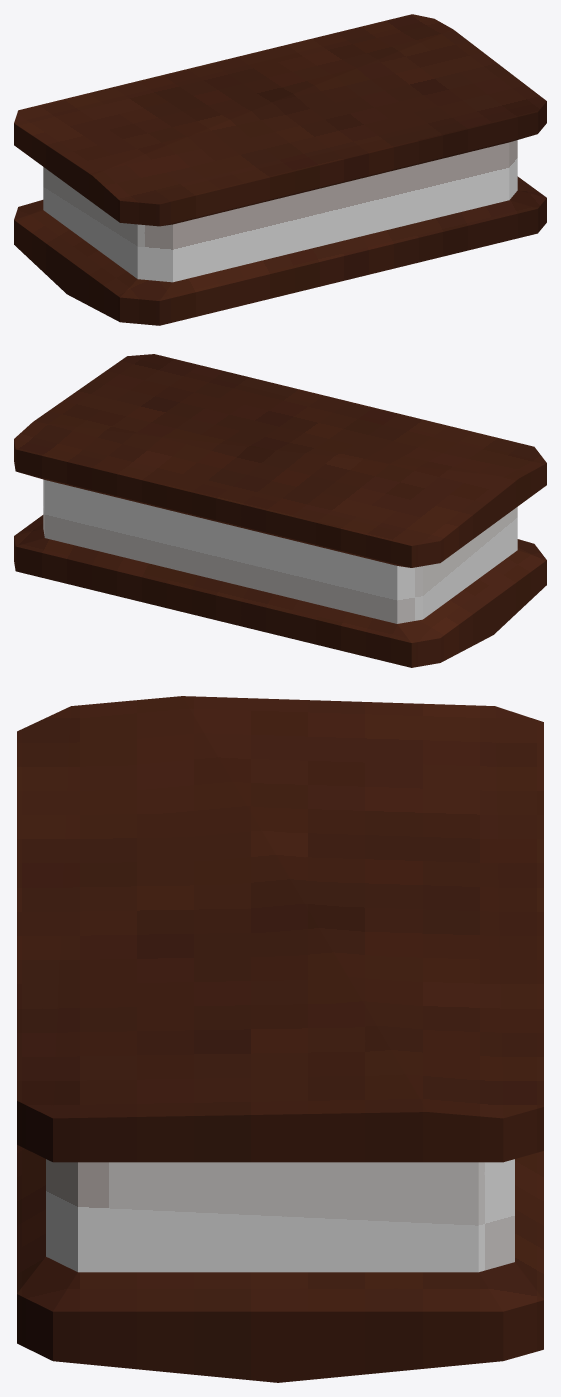
Rendered from IcecreamSandwich.fbx.
The picture shows the model from 3 angles, top to bottom: view 1: azimuth 30°, elevation 25°; view 2: azimuth 150°, elevation 25°; view 3: azimuth 270°, elevation 25°; orthographic projection. The views are drawn at different scales.
Visible parts, largest first — view 1: IcecreamSandwich; view 2: IcecreamSandwich; view 3: IcecreamSandwich.
Part boxes in pixels (x1,y1,x2,y2): IcecreamSandwich: [14, 14, 546, 325]; IcecreamSandwich: [14, 354, 546, 667]; IcecreamSandwich: [17, 696, 543, 1382].
Bounding box in the file's own units: 24.7 × 7.67 × 13.35.
